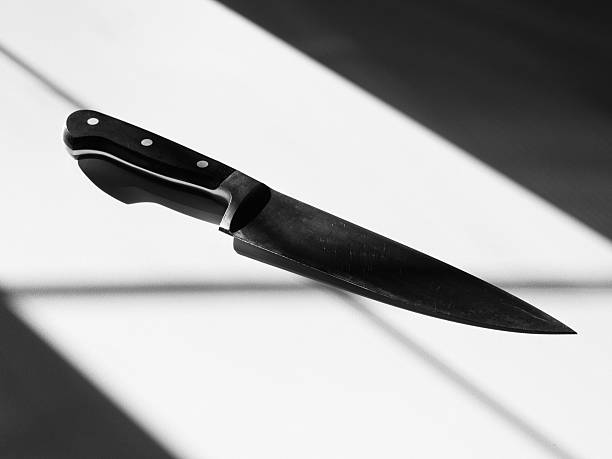knife: (63, 106, 580, 336)
